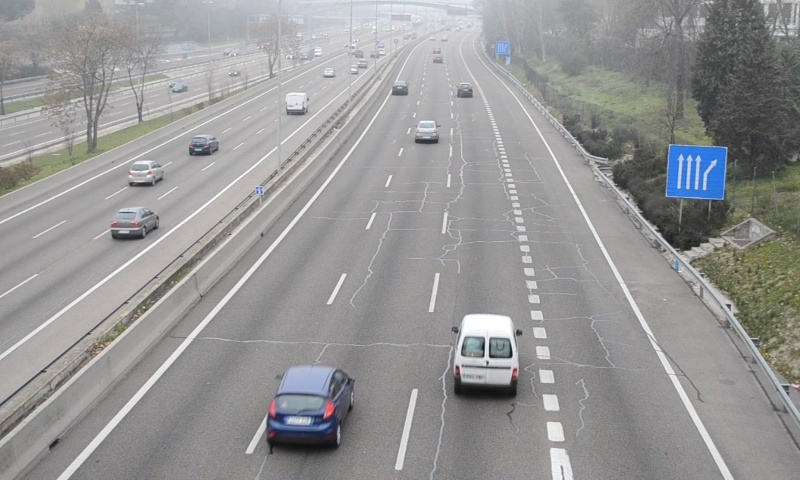car: (268, 366, 352, 445), (414, 120, 438, 142), (391, 80, 409, 96), (456, 82, 472, 98)
van: (454, 314, 520, 395)
